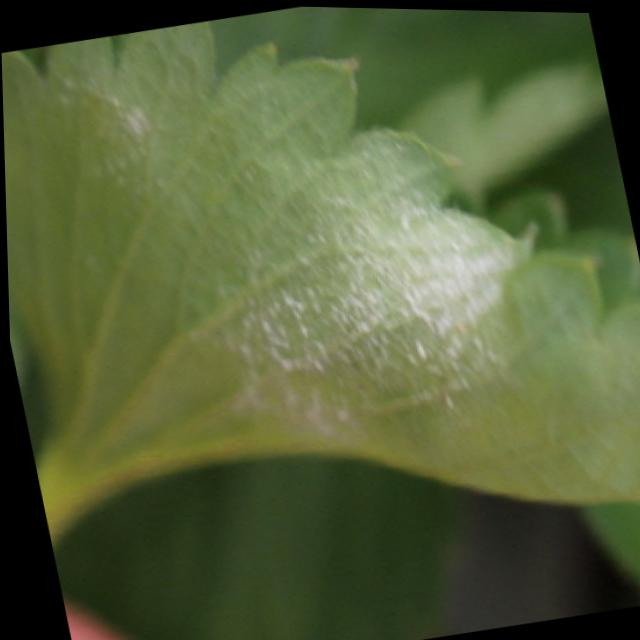Powdery Mildew Leaf: (1, 19, 640, 535)
